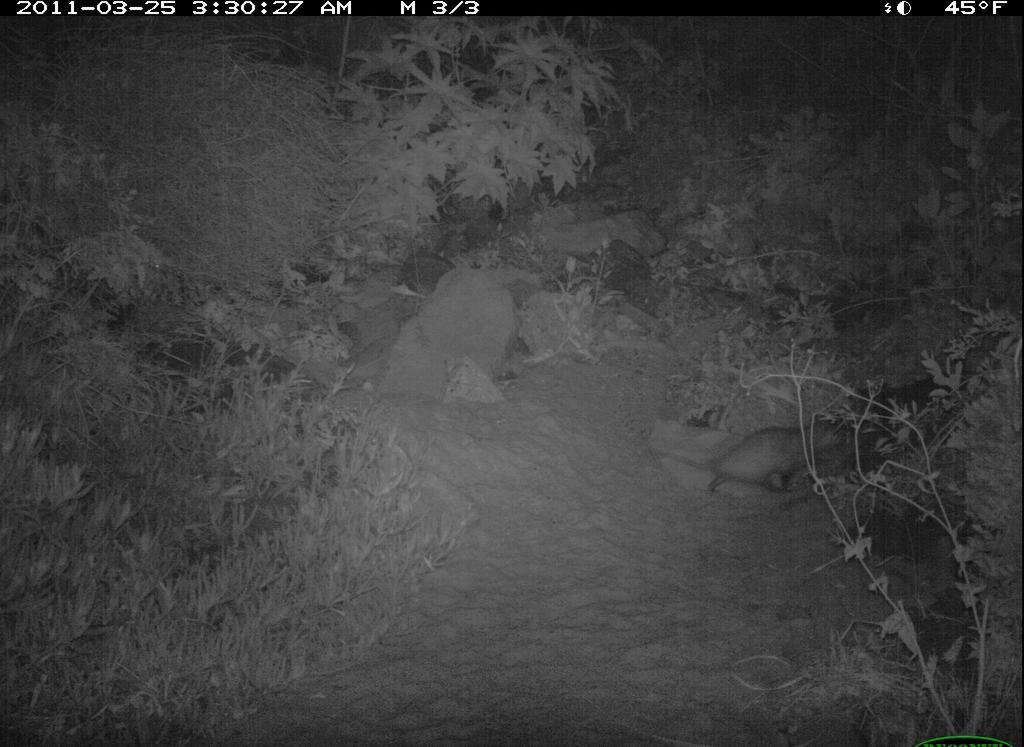opossum: (667, 417, 861, 509)
